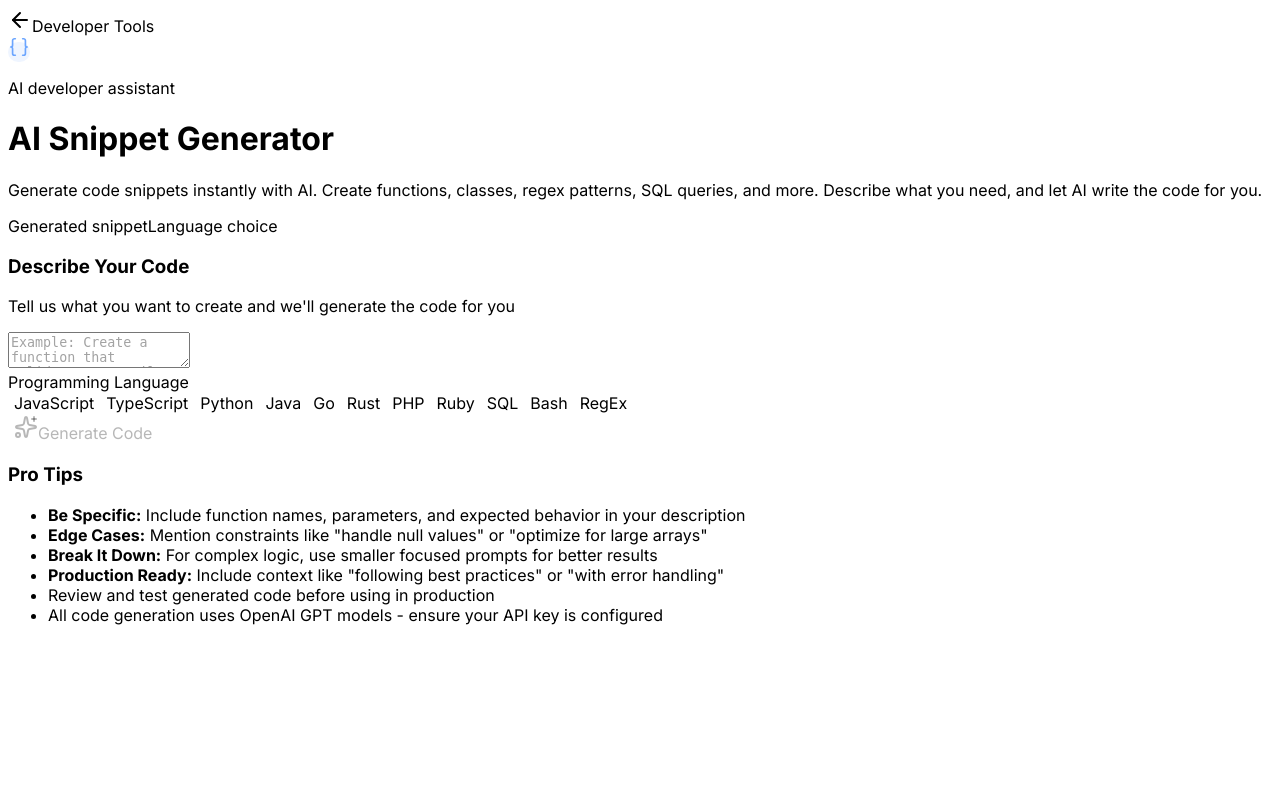
AI Snippet Generator - Code Generation Tests › should display generated code with explanation
Type "Create a greeting function" into the text box with placeholder "Create a function that validates" at (99, 350), box [8, 332, 190, 368]
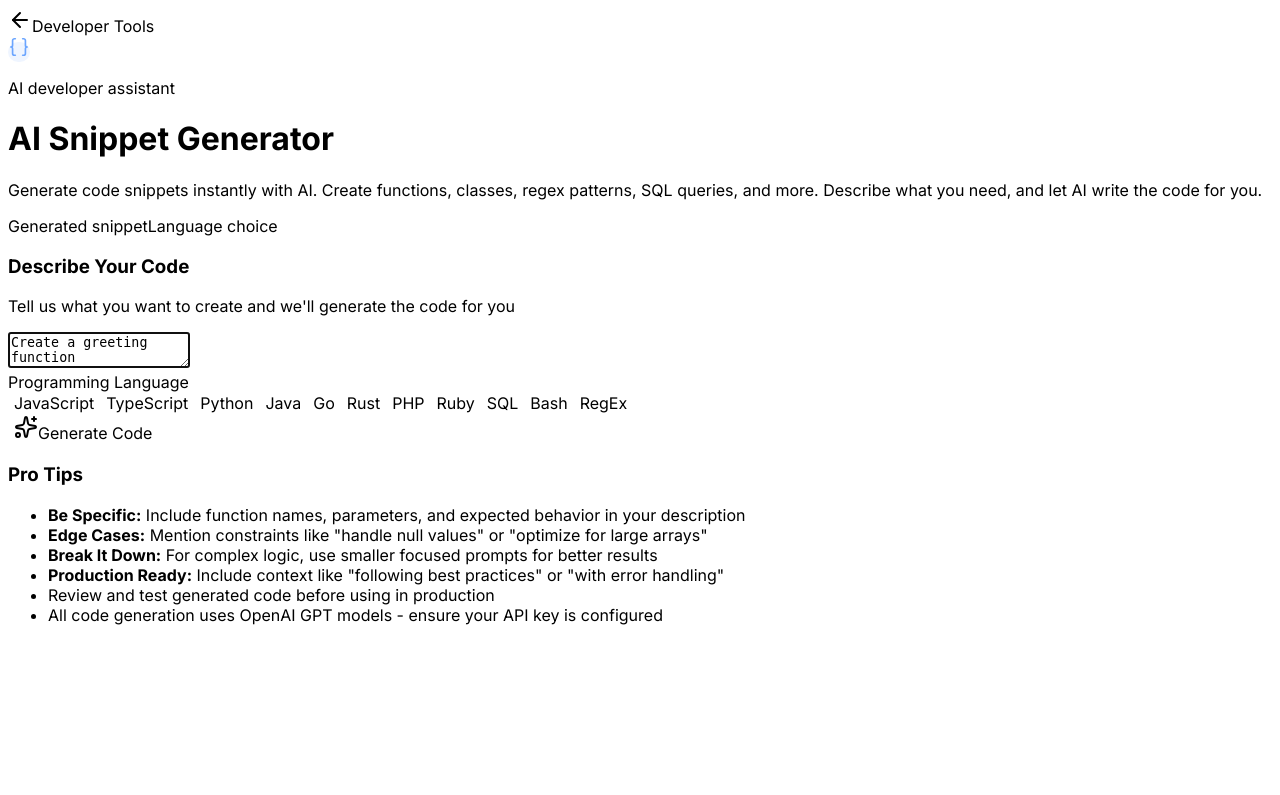
Click the button "Generate Code" at (83, 429), box [8, 414, 158, 444]
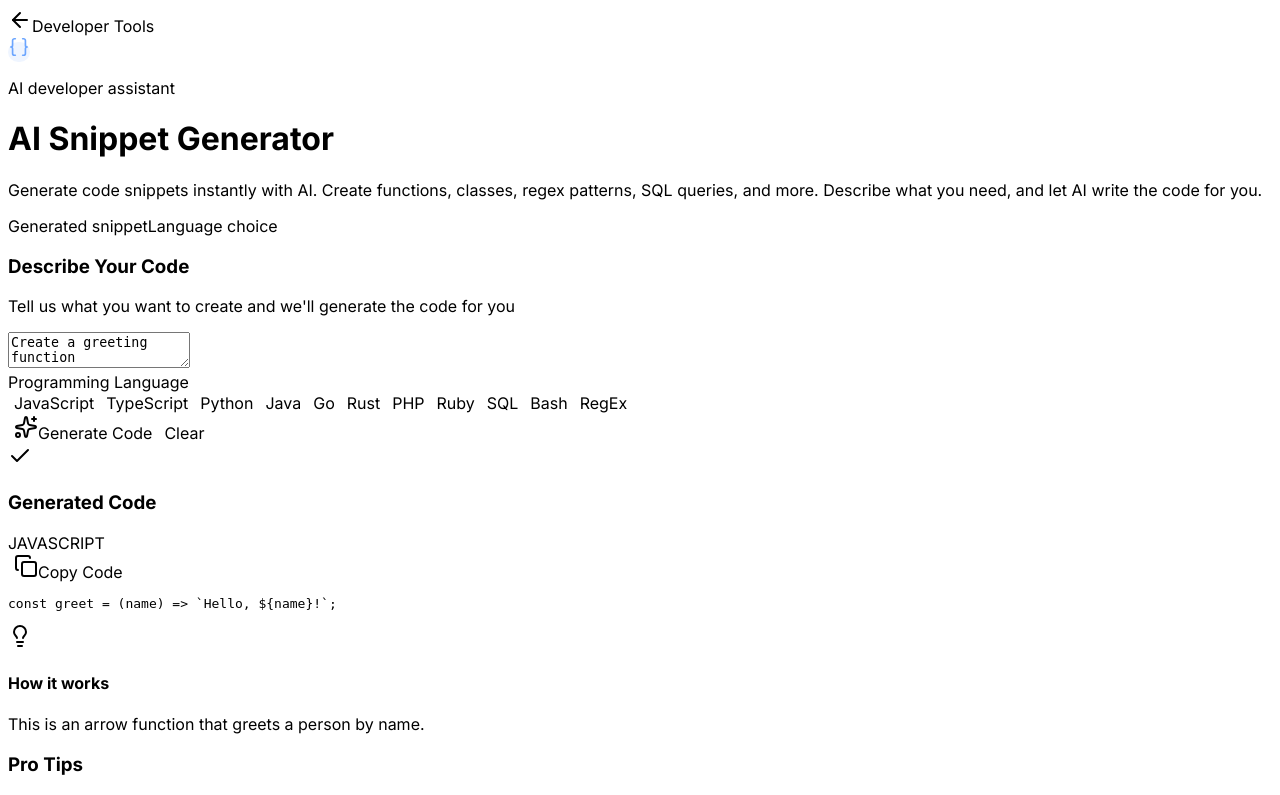
Expected: the text "const greet = (name)" is shown, [8, 596, 337, 611]
Expected: the text "This is an arrow function that greets a person by name." is shown, [8, 714, 425, 734]
